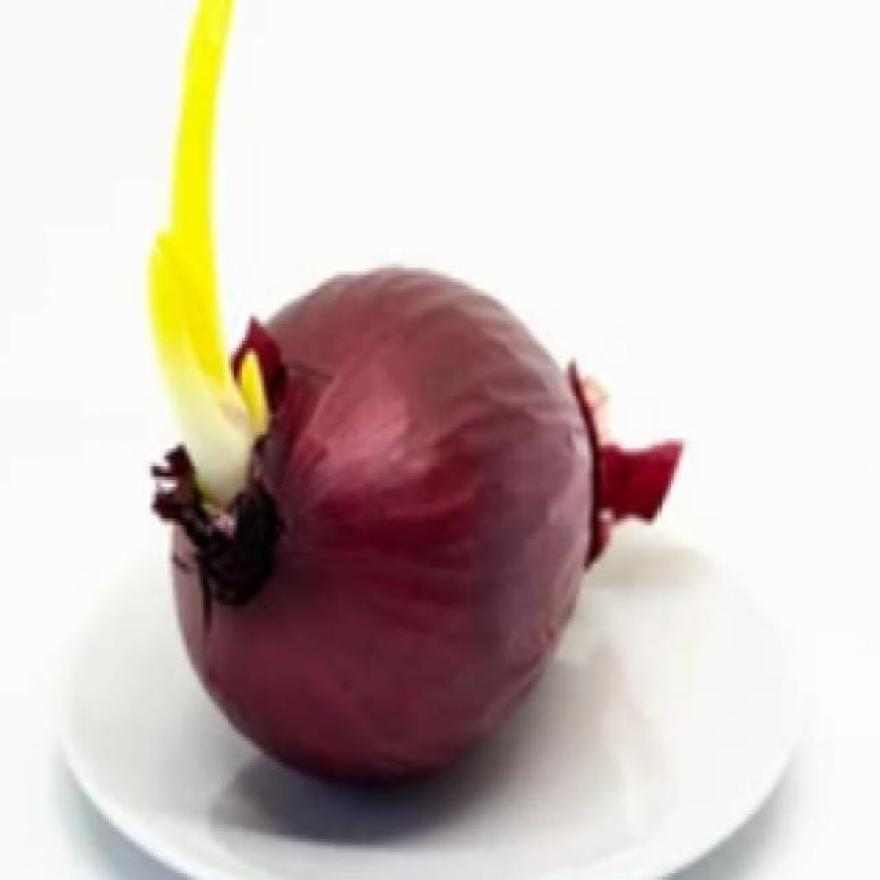Sprouted: (111, 0, 265, 491)
